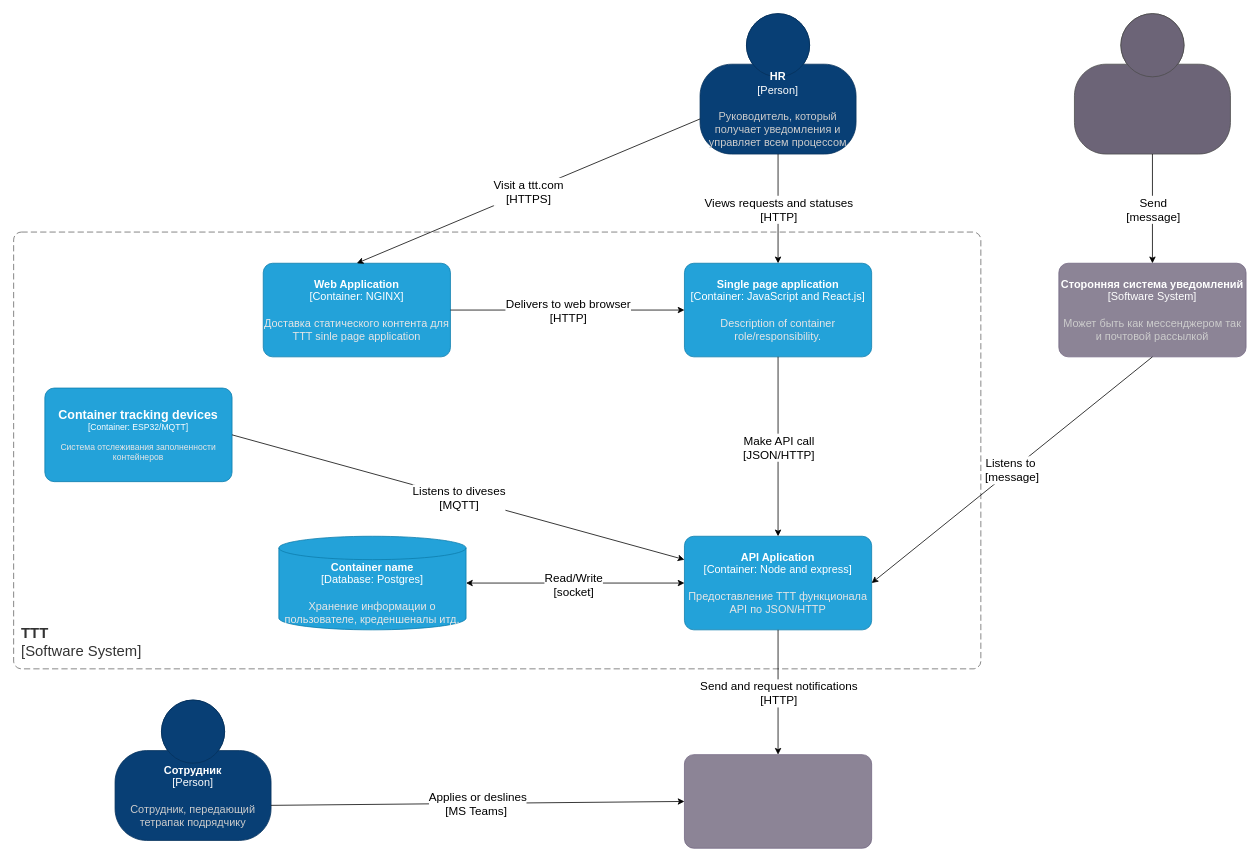
Some shapes in this 1260 by 862 pixel diagram are drawn without their labels. Each missing label, with the centre of its shape:
"MS Teams [Software System] Корпоративный мессенджер в компании" belongs at (x=778, y=801).
"Контрактор [Person] Компания по предоставлению услуг утилизации тетрапаков" belongs at (x=1152, y=83).
